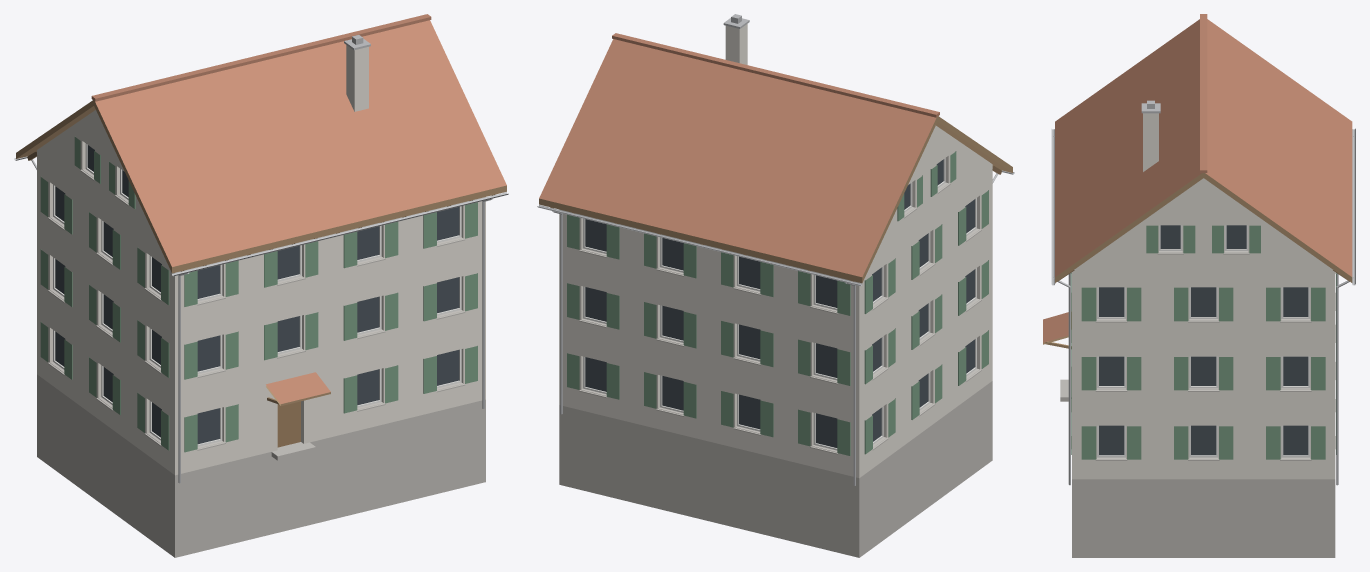
Rendered from house_gable_3_m.glb.
The picture shows the model from 3 angles, left to right: view 1: azimuth 30°, elevation 25°; view 2: azimuth 150°, elevation 25°; view 3: azimuth 270°, elevation 25°; orthographic projection. The views are drawn at different scales.
Visible parts, largest first — view 1: house_gable_3_m; view 2: house_gable_3_m; view 3: house_gable_3_m.
Boxes of the visible parts, x1,y1,x2,y2 form: house_gable_3_m: (14,14,508,557); house_gable_3_m: (537,14,1014,557); house_gable_3_m: (1043,14,1355,557).
Bounding box in the file's own units: 14.04 × 17.41 × 11.88.
